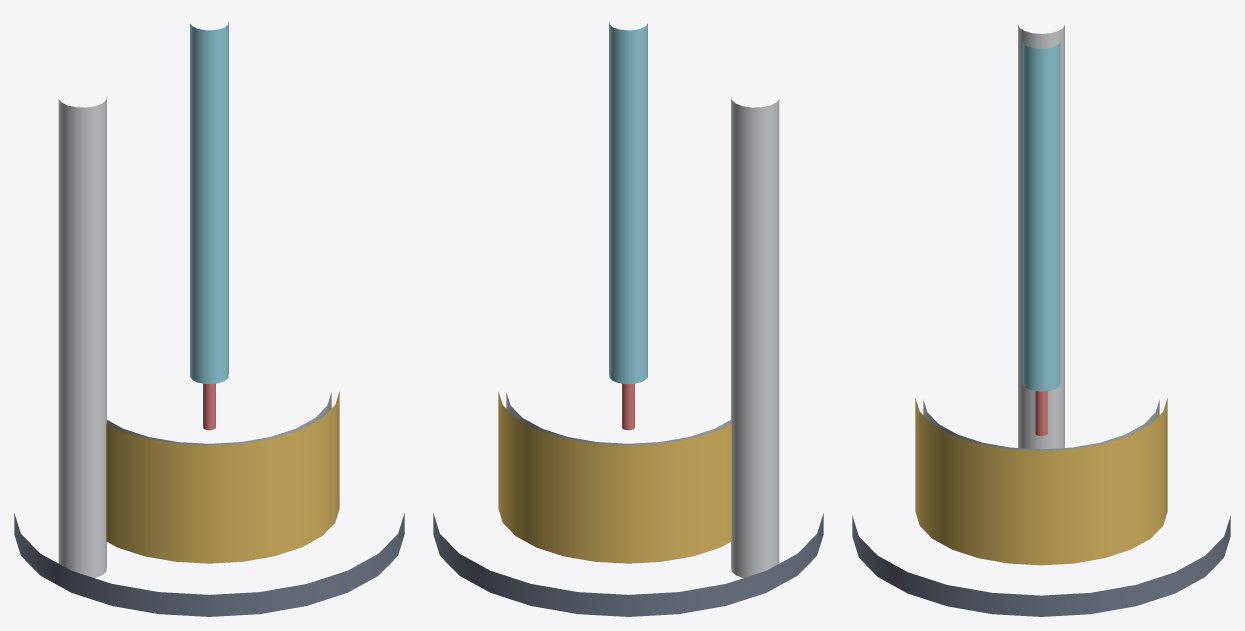
Rendered from cement_testing.glb.
The picture shows the model from 3 angles, left to right: view 1: azimuth 30°, elevation 25°; view 2: azimuth 150°, elevation 25°; view 3: azimuth 270°, elevation 25°; orthographic projection. The views are drawn at different scales.
Parts seen in each view (by area): view 1: VicatMould, VicatFrame, VicatPlunger, BasePlate, CementSample, VicatNeedle; view 2: VicatMould, VicatFrame, VicatPlunger, BasePlate, CementSample, VicatNeedle; view 3: VicatMould, VicatPlunger, BasePlate, VicatFrame, CementSample, VicatNeedle.
Part boxes in pixels (x1,y1,x2,y2): VicatMould: (106,391,339,563); VicatFrame: (58,96,106,577); VicatPlunger: (190,21,228,384); BasePlate: (14,513,404,616); CementSample: (107,392,331,445); VicatNeedle: (203,383,215,430); VicatMould: (498,391,731,563); VicatFrame: (731,96,779,577); VicatPlunger: (609,21,647,384); BasePlate: (433,513,823,616); CementSample: (506,392,730,445); VicatNeedle: (622,383,634,430); VicatMould: (915,398,1167,565); VicatPlunger: (1022,42,1060,391); BasePlate: (852,516,1230,616); VicatFrame: (1018,25,1064,449); CementSample: (923,400,1159,451); VicatNeedle: (1035,391,1047,436).
Size of the model in its own units: 2.4 by 3.5 by 2.4.
